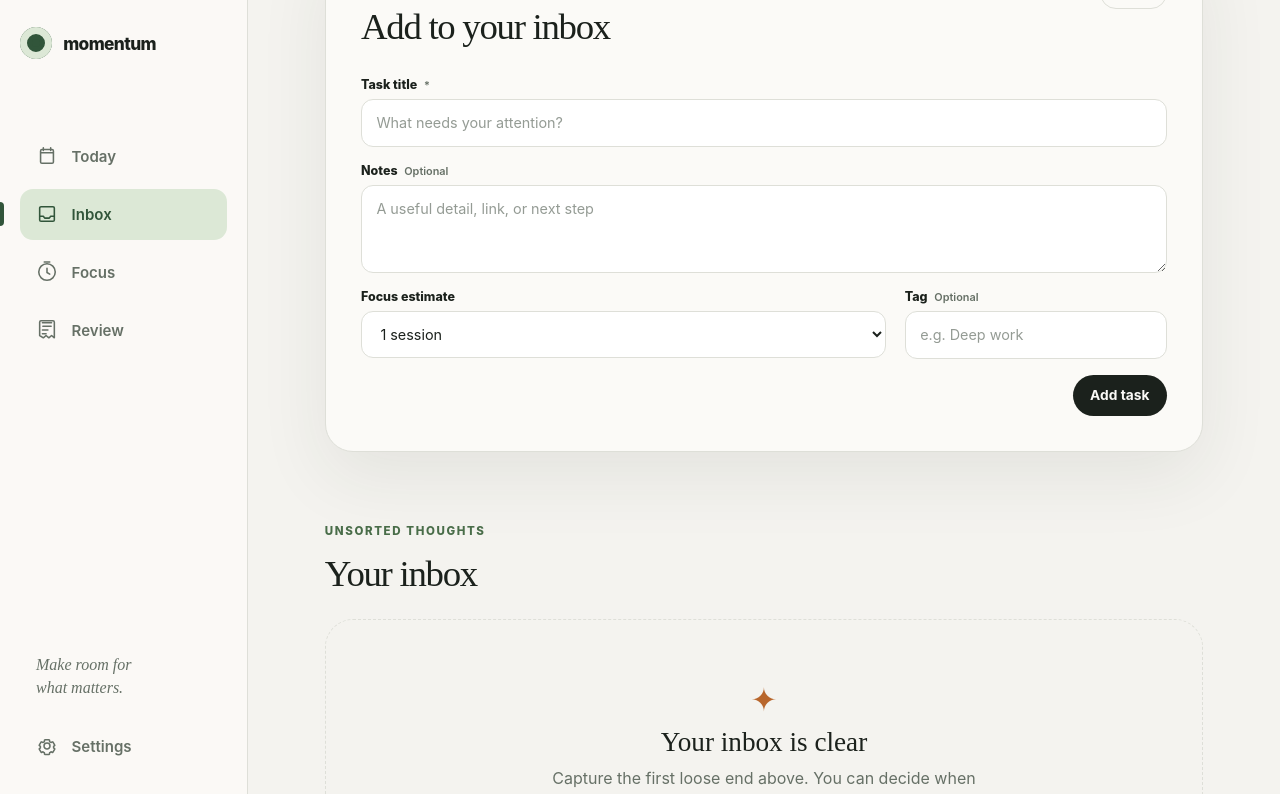
it: Inbox workspace › announces validation and does not persist a task without a title
The width and height of the screenshot is (1280, 794).
(page scrolled)
Click the button "Add task".
click(1120, 396)  # box [1072,375,1167,416]
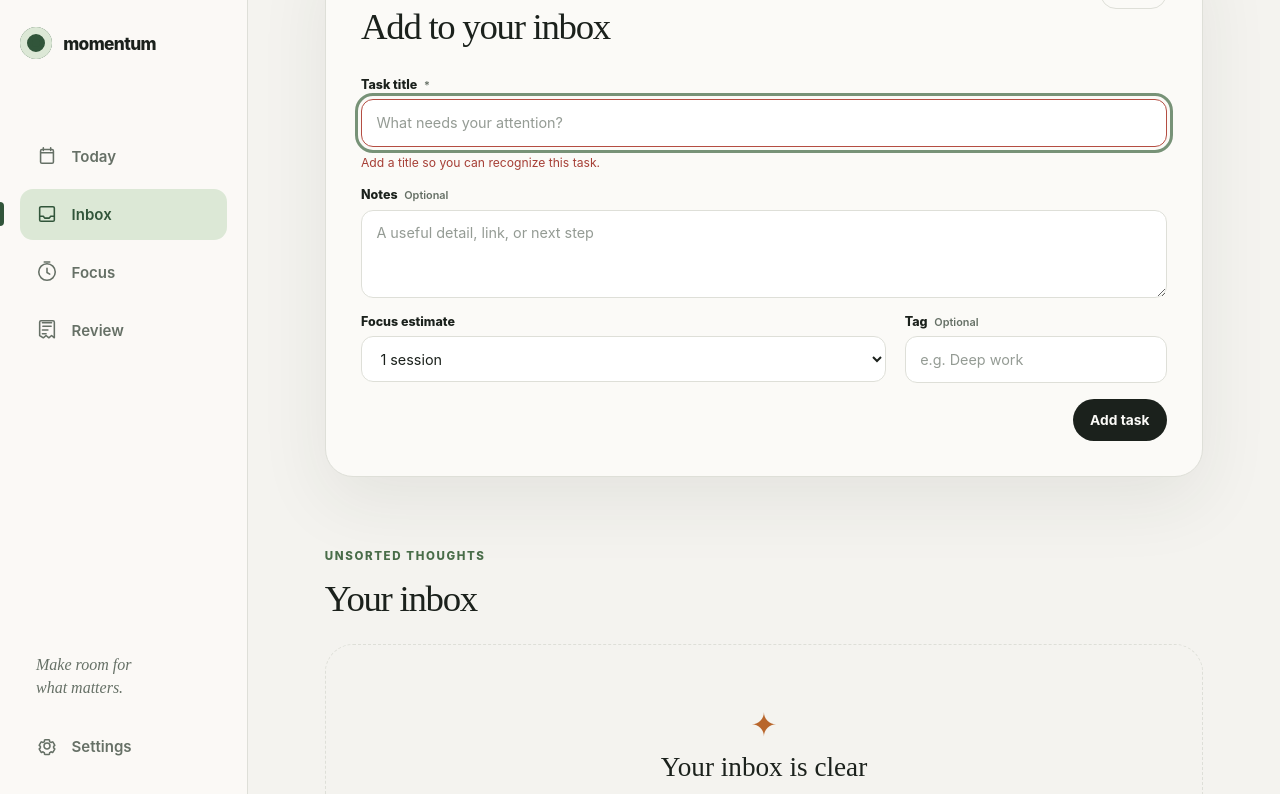
Now the message shows "Add a title", box [361,155,600,170]
